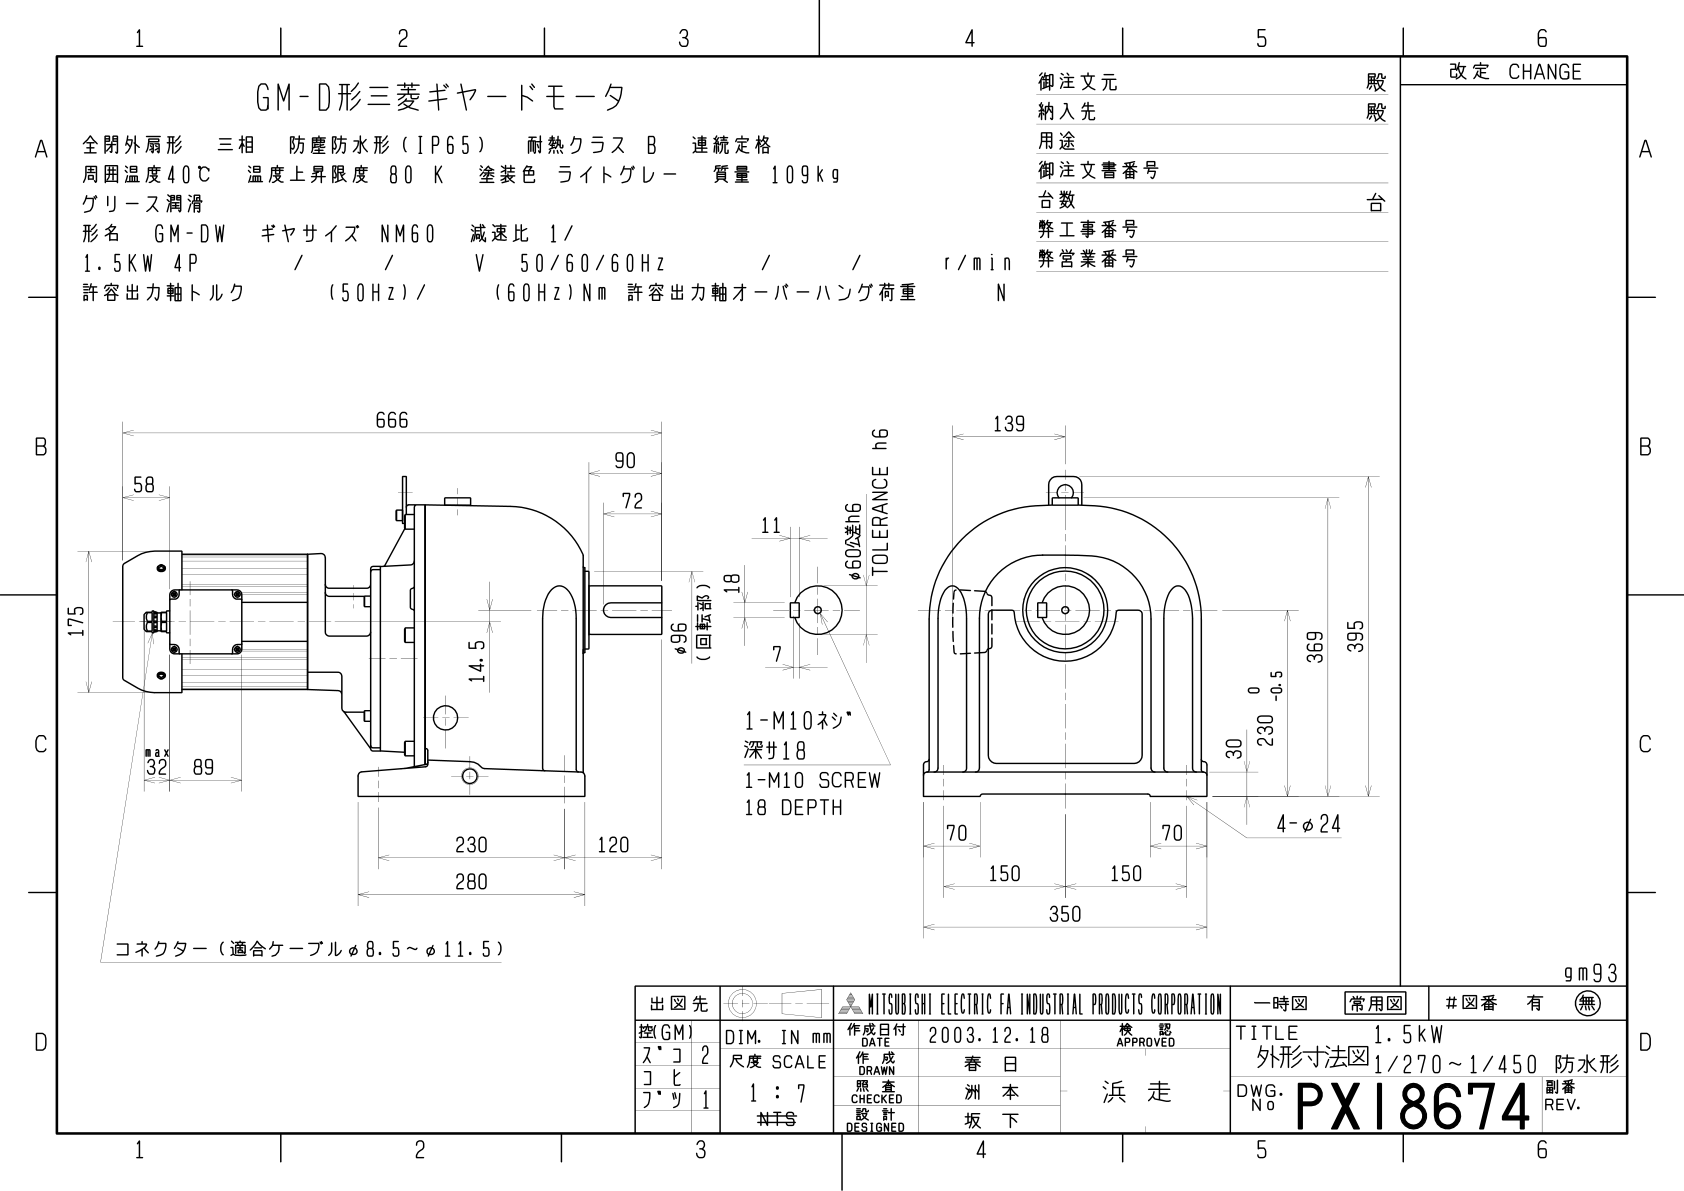GM_D_IP65_三相_脚: (58, 360, 1385, 967)
